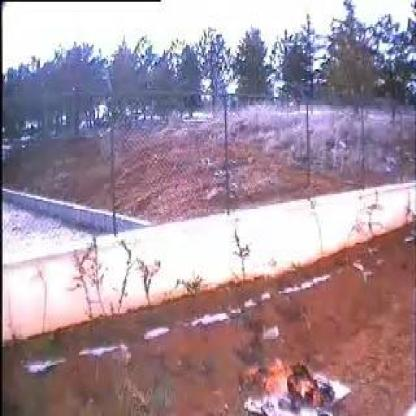-: (249, 339, 262, 361)
foggia-v2-map80-epoch100 - v1 4323: (268, 360, 321, 401)
